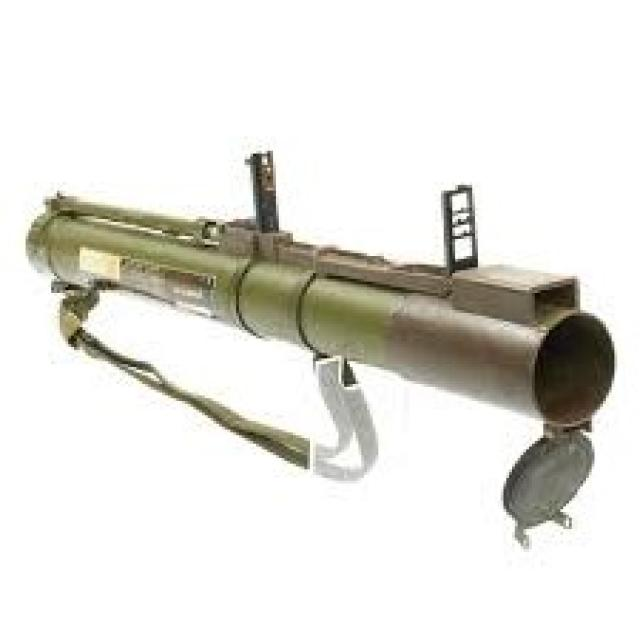bazooka: (22, 140, 626, 558)
